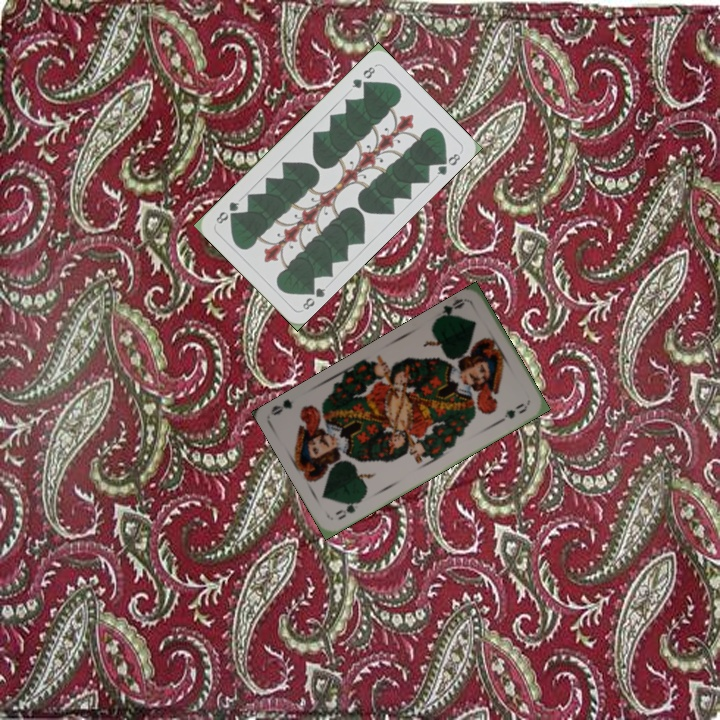G8: (298, 281, 328, 312), (348, 62, 378, 91)
GO: (432, 294, 468, 322), (331, 494, 365, 522)
